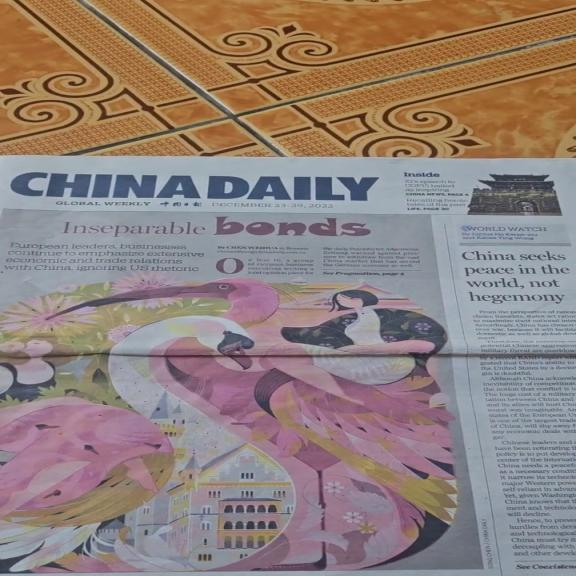Kertas: (4, 157, 570, 571)
